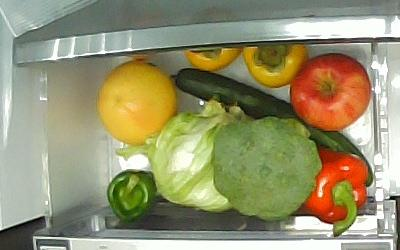apple: (289, 53, 372, 132)
broccoli: (211, 116, 323, 221)
cucumber: (170, 69, 374, 187)
grapefruit: (97, 60, 178, 145)
lettuce: (151, 98, 254, 212)
paprika: (299, 146, 368, 238), (105, 168, 156, 221)
persimmon: (241, 42, 308, 89), (183, 46, 244, 72)
